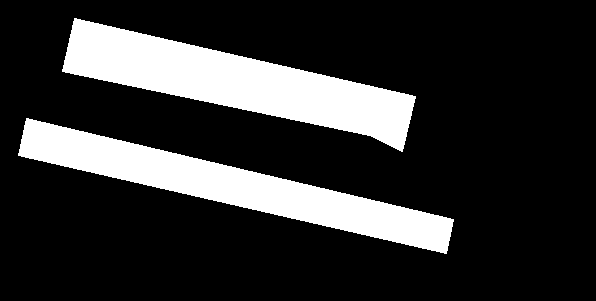parkingspot: (18, 118, 453, 253), (62, 18, 415, 151)
